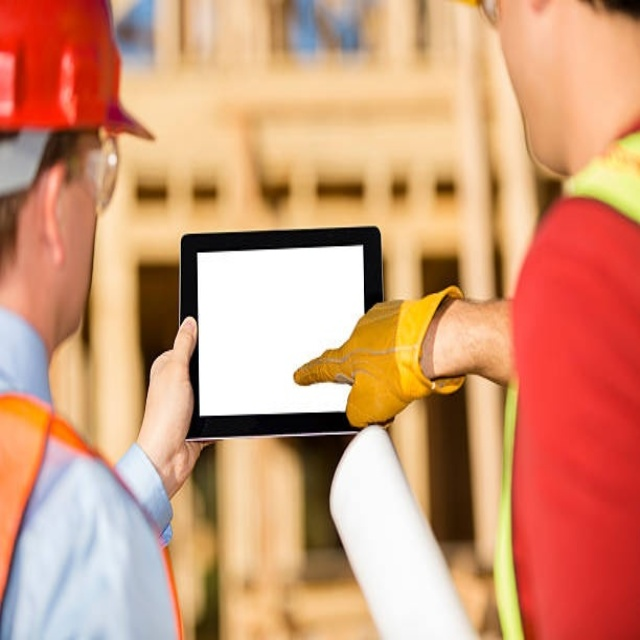Gafas: (65, 129, 119, 216)
Guantes: (292, 288, 467, 428)
Sin_guantes: (137, 312, 213, 501)
